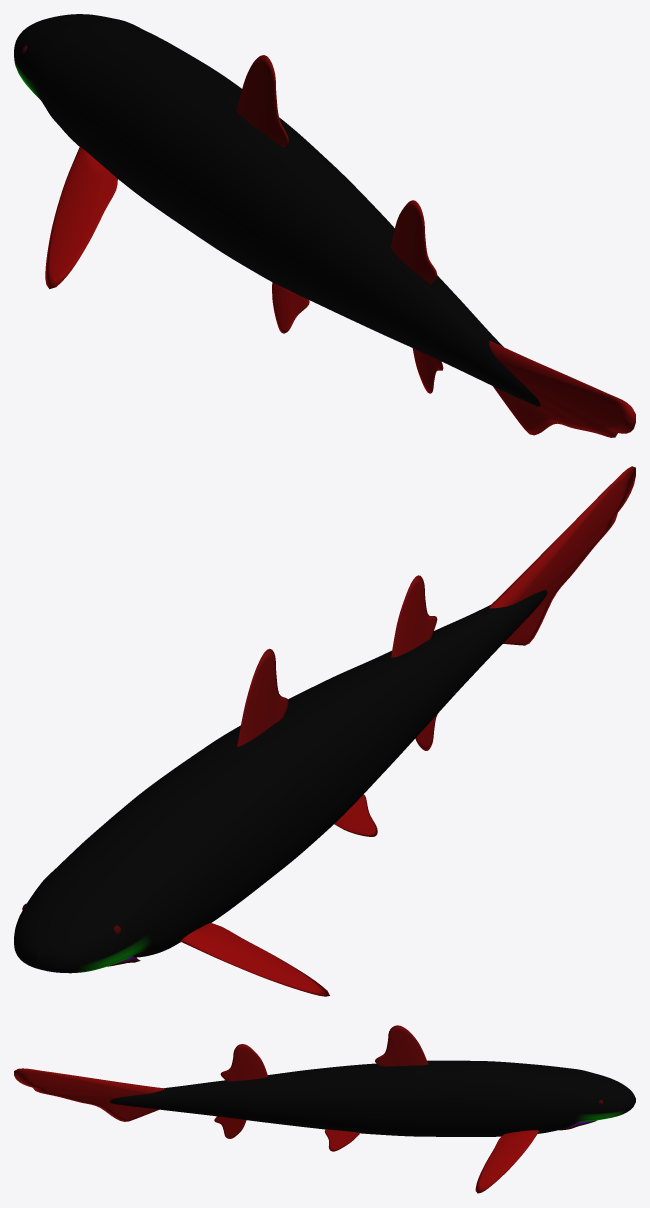
Rendered from leopard_shark.glb.
3 renders of one model, top to bottom at view 1: azimuth 30°, elevation 25°; view 2: azimuth 150°, elevation 25°; view 3: azimuth 270°, elevation 25°, orthographic. The views are drawn at different scales.
Parts seen in each view (by area): view 1: leopard_shark; view 2: leopard_shark; view 3: leopard_shark.
Part boxes in pixels (<box>): leopard_shark: <box>14,14,635,437</box>; leopard_shark: <box>14,466,635,996</box>; leopard_shark: <box>14,1025,635,1193</box>.
Bounding box in the file's own units: 0.4064 × 0.3531 × 1.5.
